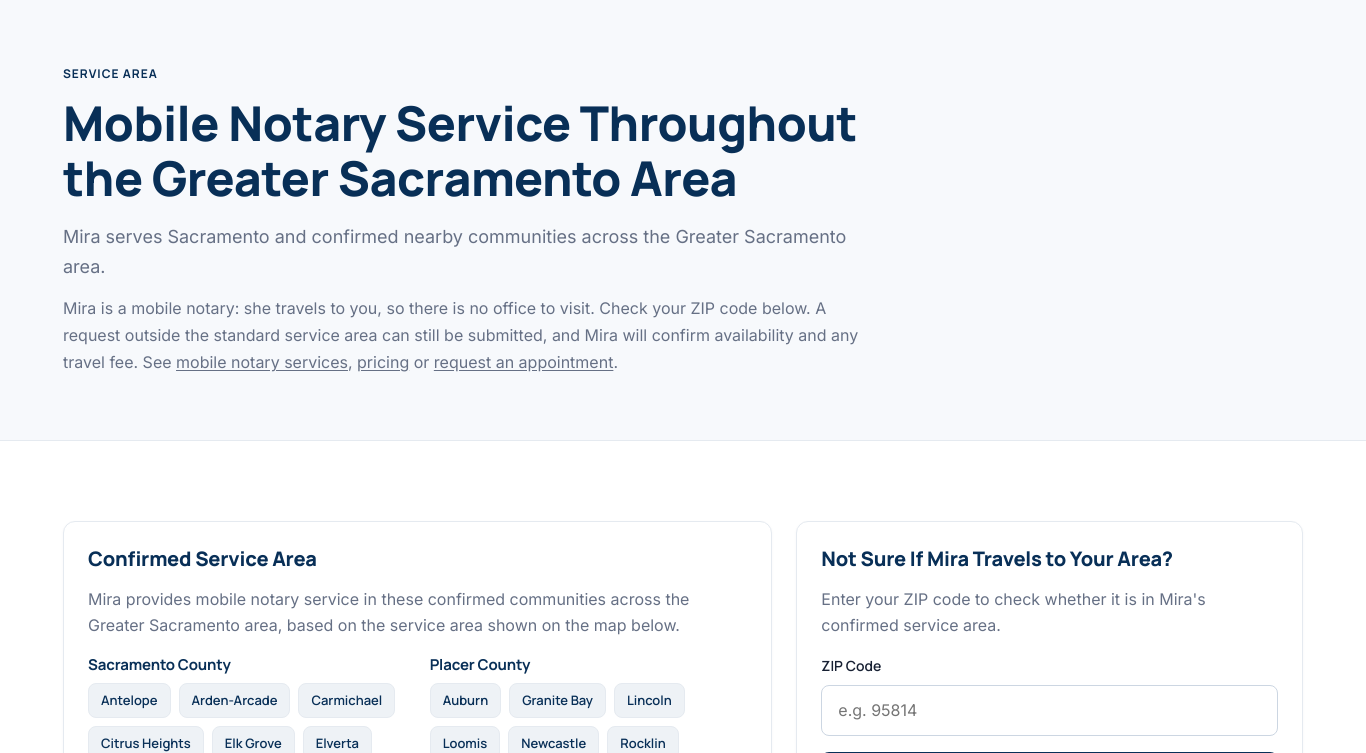
Test: ServiceAreaComponent ZIP checker › digits only, at most 5 (typing and paste) › typing 958140 leaves 95814 in the field
This screenshot has width=1366, height=753.
In the field with id "zip": {"x": 1050, "y": 711} [821,685,1278,736], type "958140"
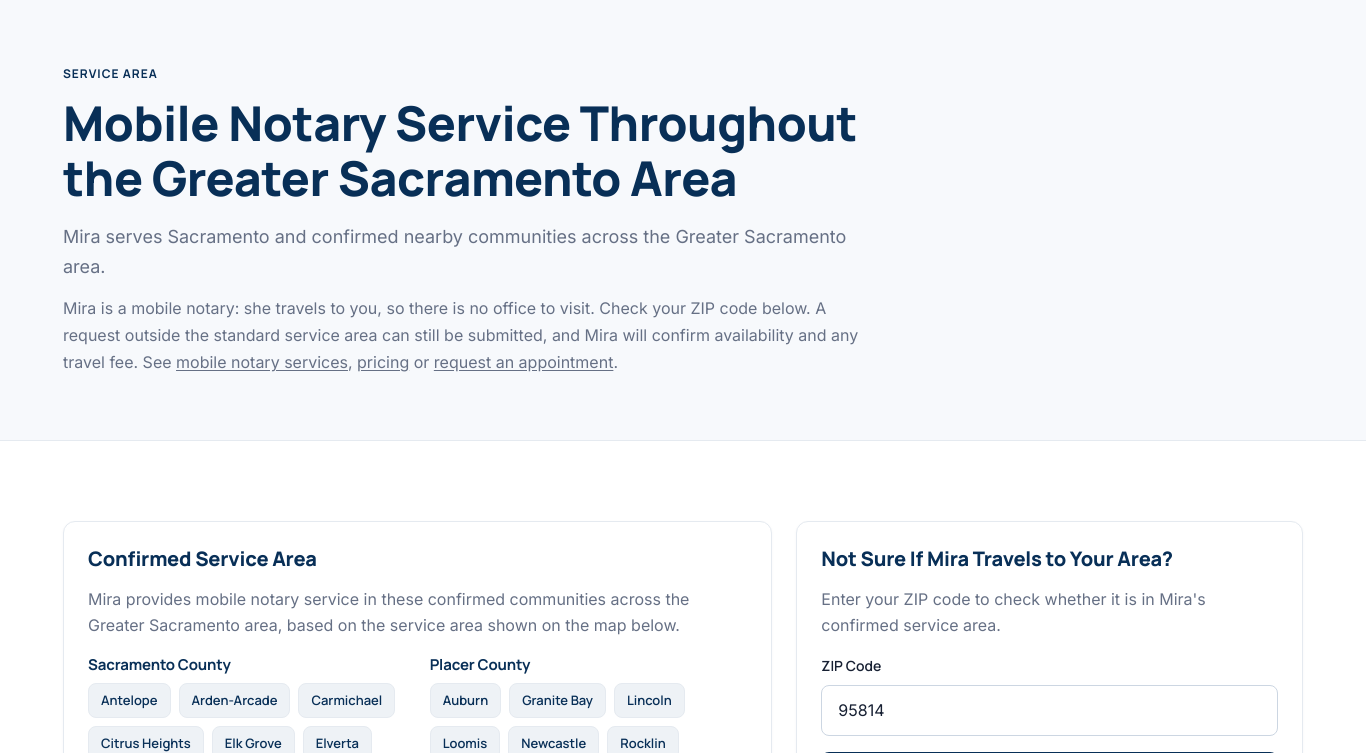
Expected: the field with id "zip" holds "95814", [821,685,1278,736]
